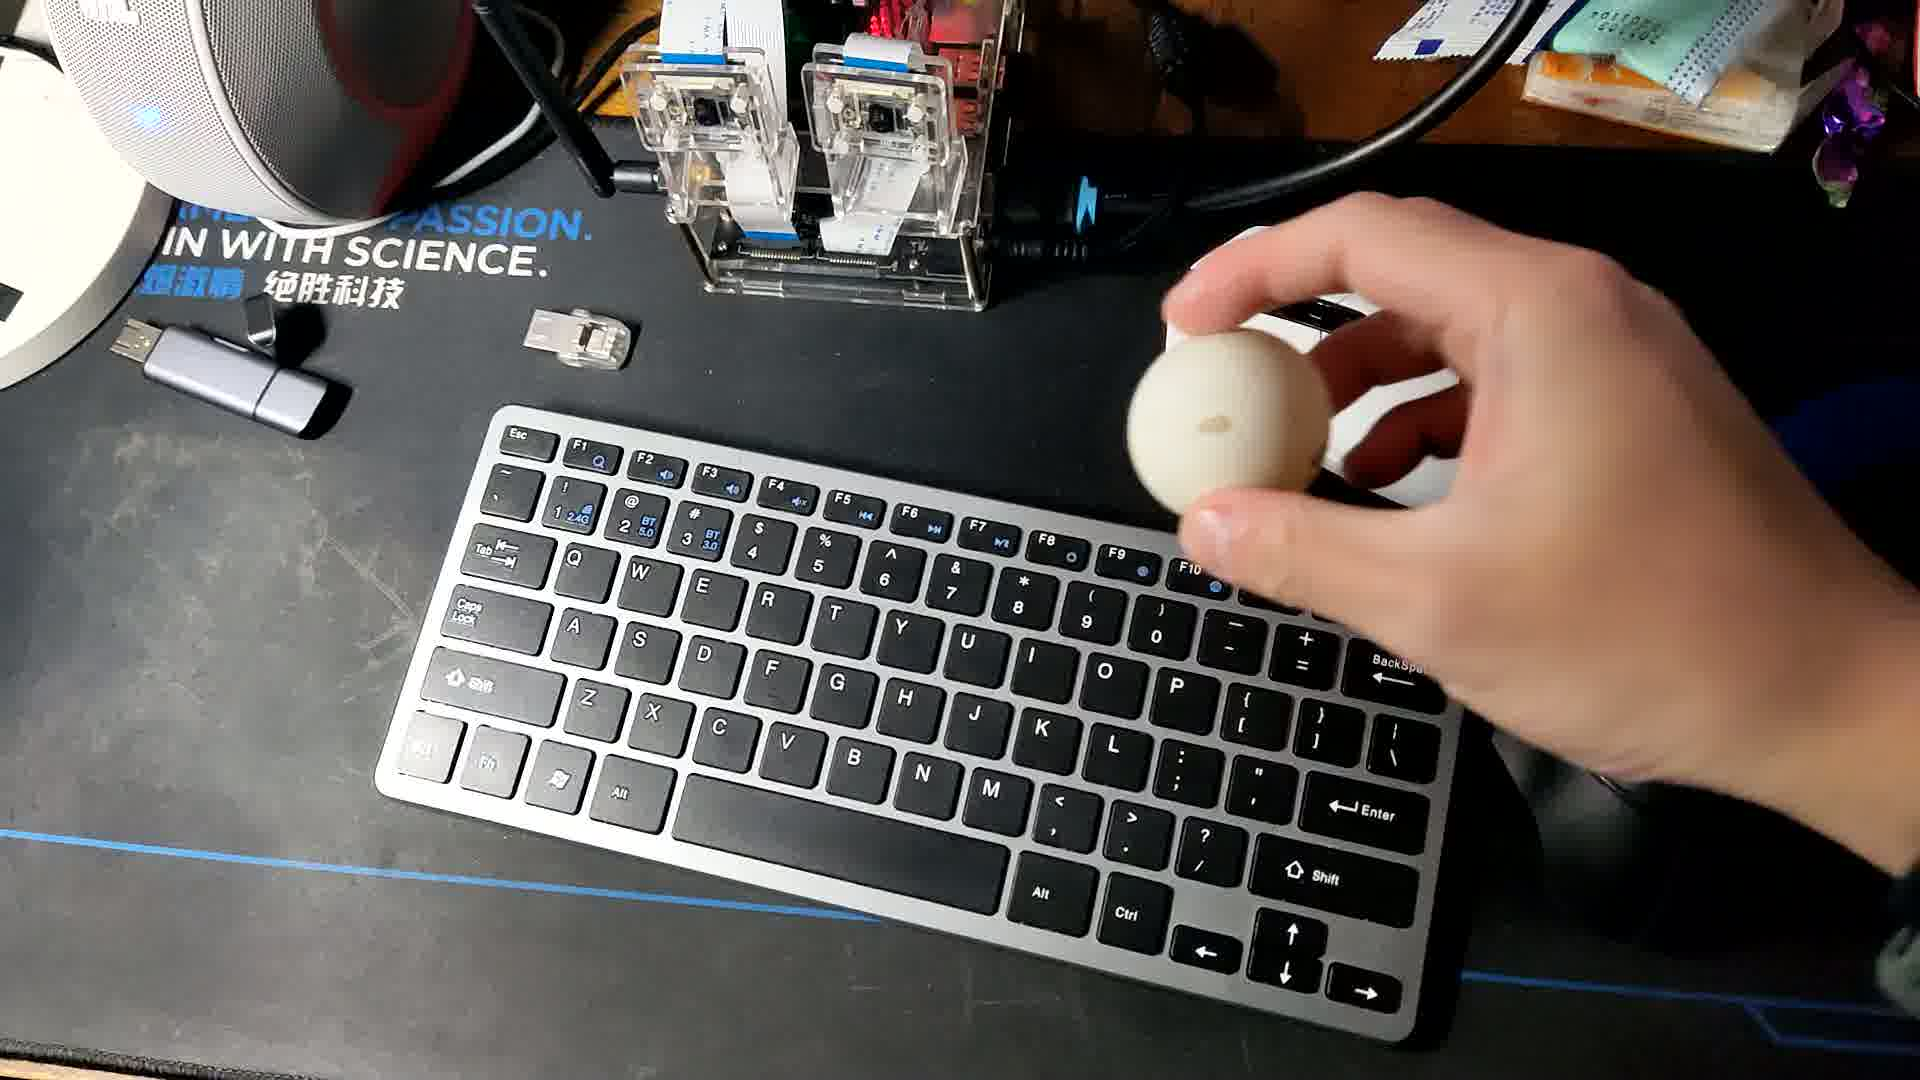Ball: (1130, 328, 1333, 526)
